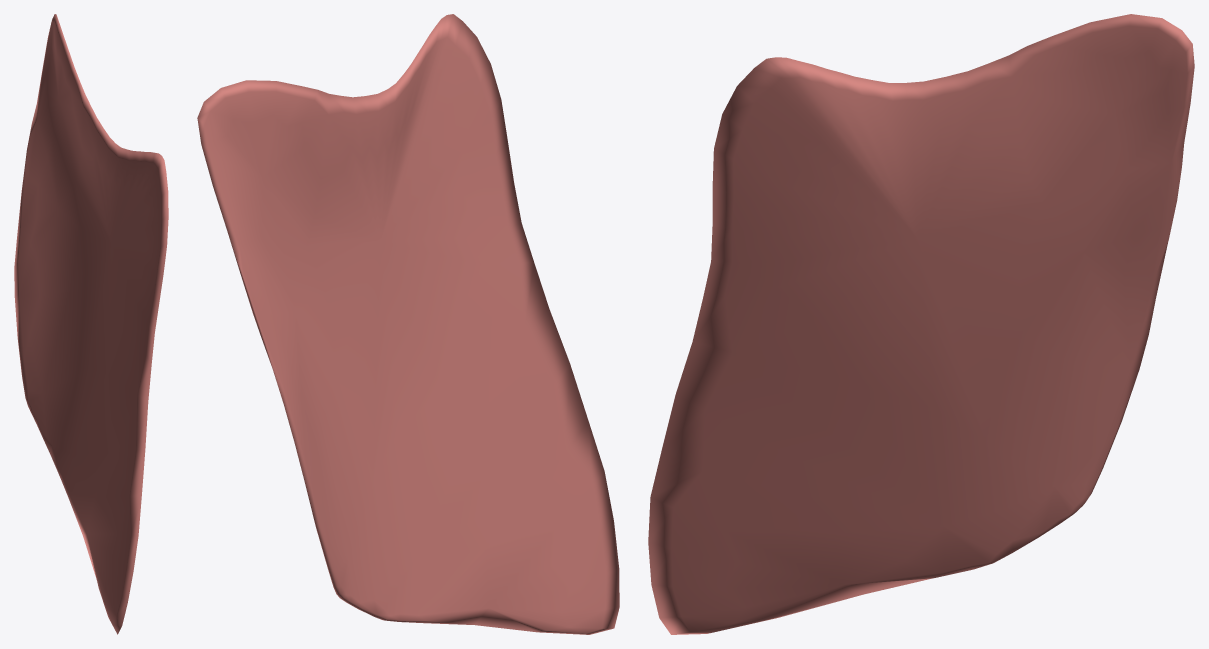
3 renders of one model, left to right at view 1: azimuth 30°, elevation 25°; view 2: azimuth 150°, elevation 25°; view 3: azimuth 270°, elevation 25°, orthographic. The views are drawn at different scales.
Parts seen in each view (by area): view 1: ZA_067572da4f4c189a; view 2: ZA_067572da4f4c189a; view 3: ZA_067572da4f4c189a.
Boxes of the visible parts, box(x1,y1,x2,y2) form: ZA_067572da4f4c189a: box(14, 14, 168, 634); ZA_067572da4f4c189a: box(197, 14, 619, 634); ZA_067572da4f4c189a: box(648, 14, 1194, 634).
Bounding box in the file's own units: 0.0122 × 0.0491 × 0.0351.
